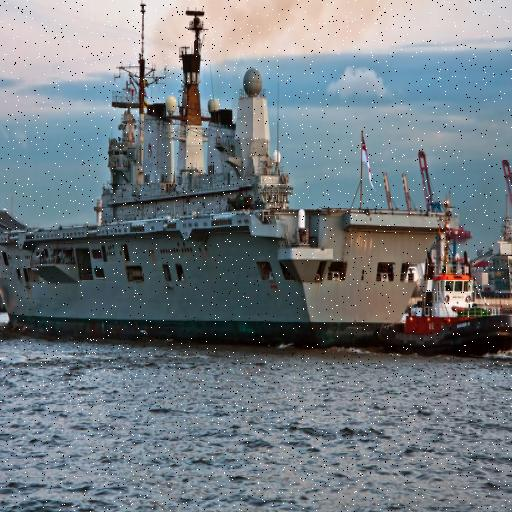Portanaves: (1, 1, 445, 342)
